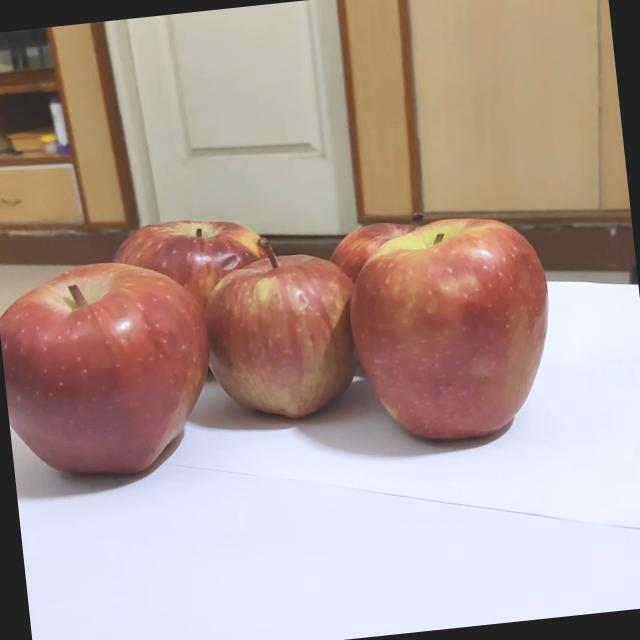apple: (1, 259, 258, 529), (87, 205, 300, 411), (386, 218, 591, 430), (225, 250, 408, 433), (322, 207, 476, 358)
